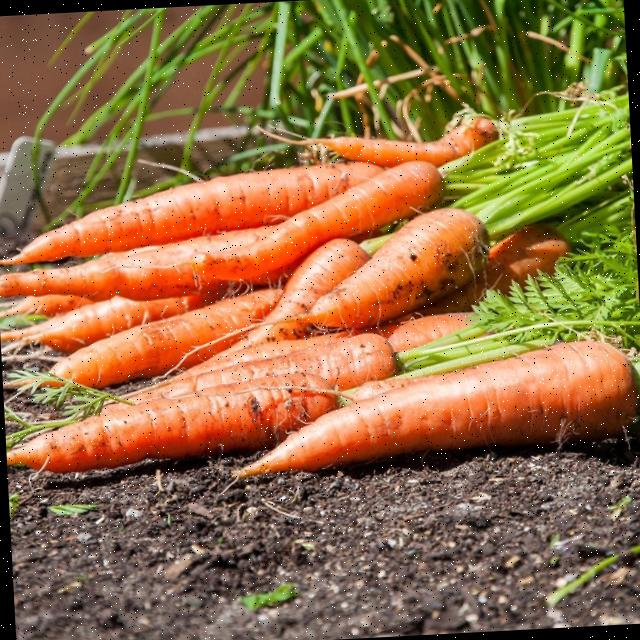carrot: (7, 332, 636, 477), (0, 160, 443, 299), (236, 341, 636, 477), (0, 161, 381, 263), (7, 373, 336, 471), (50, 288, 280, 387), (298, 208, 487, 327), (418, 224, 568, 314), (0, 294, 204, 352)
